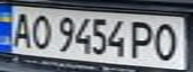4: (106, 17, 130, 57), (72, 15, 93, 55)
5: (90, 16, 112, 56)
9: (51, 14, 75, 53)
A: (6, 9, 36, 48)
O: (151, 20, 184, 62), (27, 11, 54, 51)
P: (127, 18, 160, 60)
